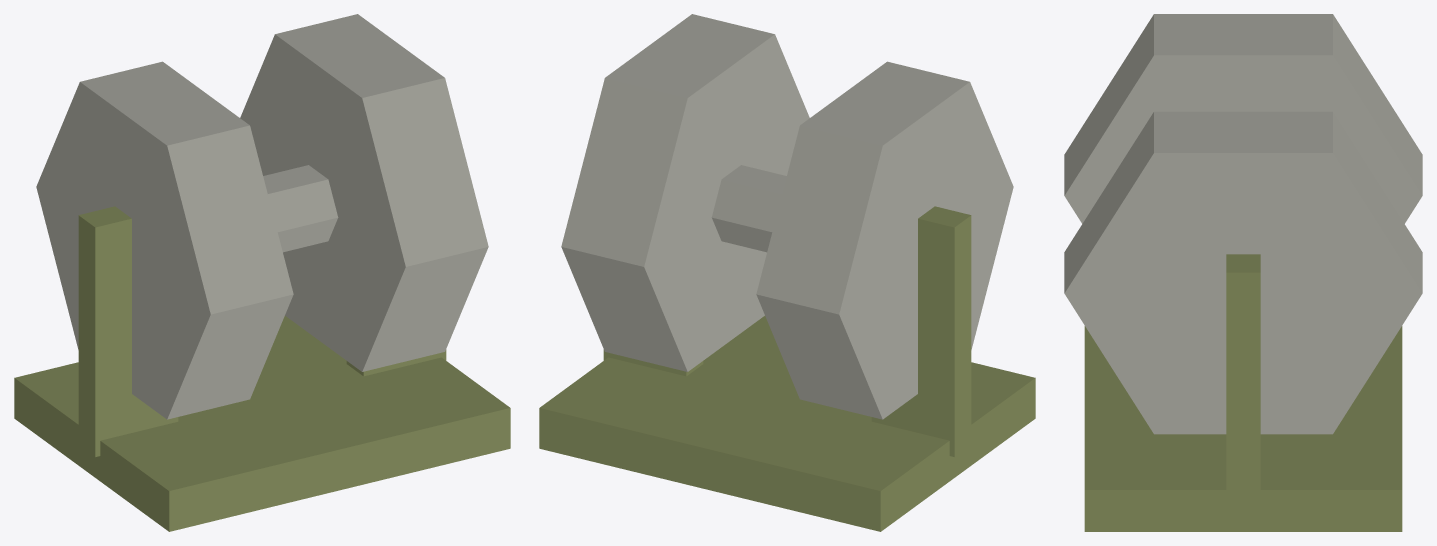
The model's file is SM_Carrete_v2_Vacio_LOD1.fbx.
The picture shows the model from 3 angles, left to right: view 1: azimuth 30°, elevation 25°; view 2: azimuth 150°, elevation 25°; view 3: azimuth 270°, elevation 25°; orthographic projection. The views are drawn at different scales.
Visible parts, largest first — view 1: SM_farp_betera_v12_LOD1; view 2: SM_farp_betera_v12_LOD1; view 3: SM_farp_betera_v12_LOD1.
Part boxes in pixels (x1,y1,x2,y2): SM_farp_betera_v12_LOD1: [14, 14, 510, 531]; SM_farp_betera_v12_LOD1: [539, 14, 1035, 531]; SM_farp_betera_v12_LOD1: [1064, 14, 1422, 531].
Size of the model in its own units: 1.44 by 1.39 by 1.24.
